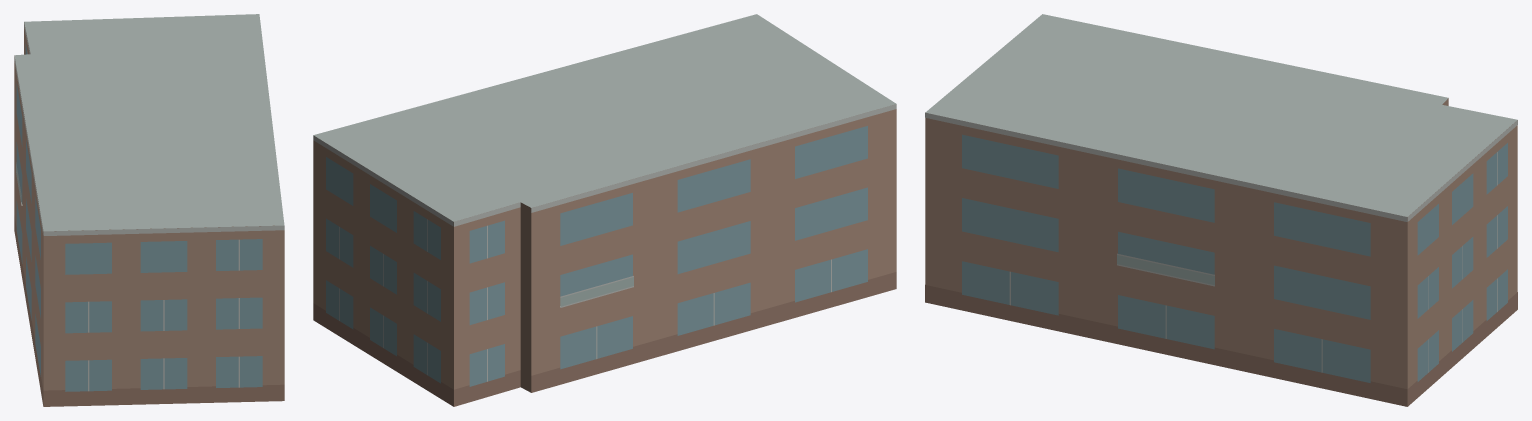
File: survey-upis-32886777.glb
3 renders of one model, left to right at view 1: azimuth 30°, elevation 25°; view 2: azimuth 150°, elevation 25°; view 3: azimuth 270°, elevation 25°, orthographic. The views are drawn at different scales.
Parts seen in each view (by area): view 1: survey-upis-32886777.tmp; view 2: survey-upis-32886777.tmp; view 3: survey-upis-32886777.tmp.
Part boxes in pixels (x1,y1,x2,y2): survey-upis-32886777.tmp: (14, 14, 284, 406); survey-upis-32886777.tmp: (313, 14, 896, 406); survey-upis-32886777.tmp: (925, 14, 1517, 406).
Bounding box in the file's own units: 20.66 × 9 × 25.47.
